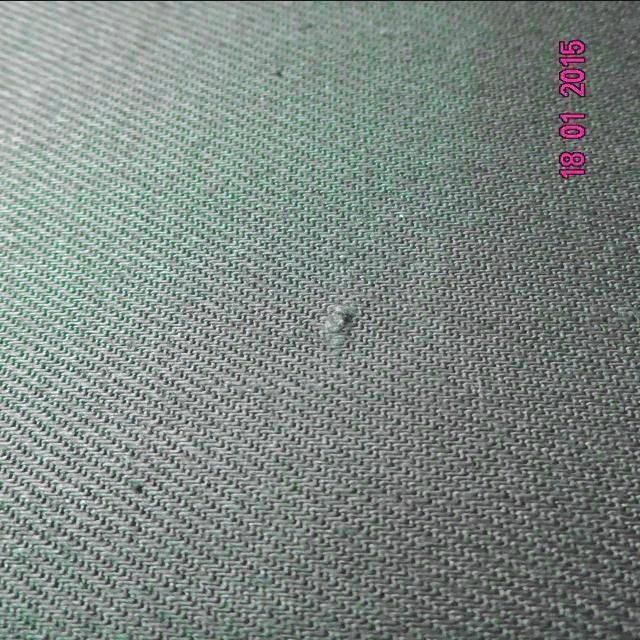Thread_other: (252, 230, 447, 400)
